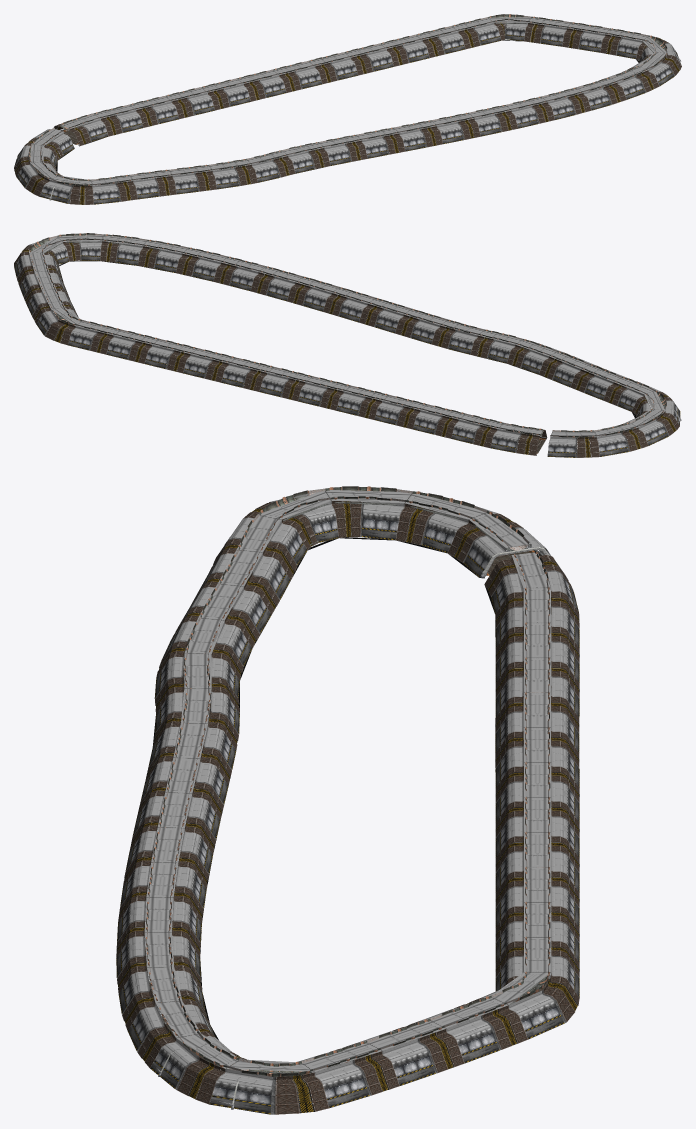
The model's file is testiram_cijelu_traku_traka13.obj.
The picture shows the model from 3 angles, top to bottom: view 1: azimuth 30°, elevation 25°; view 2: azimuth 150°, elevation 25°; view 3: azimuth 270°, elevation 25°; orthographic projection. The views are drawn at different scales.
Bounding box in the file's own units: 48.3 × 1.08 × 15.43.
Materials: 1 (1 with a texture image).
